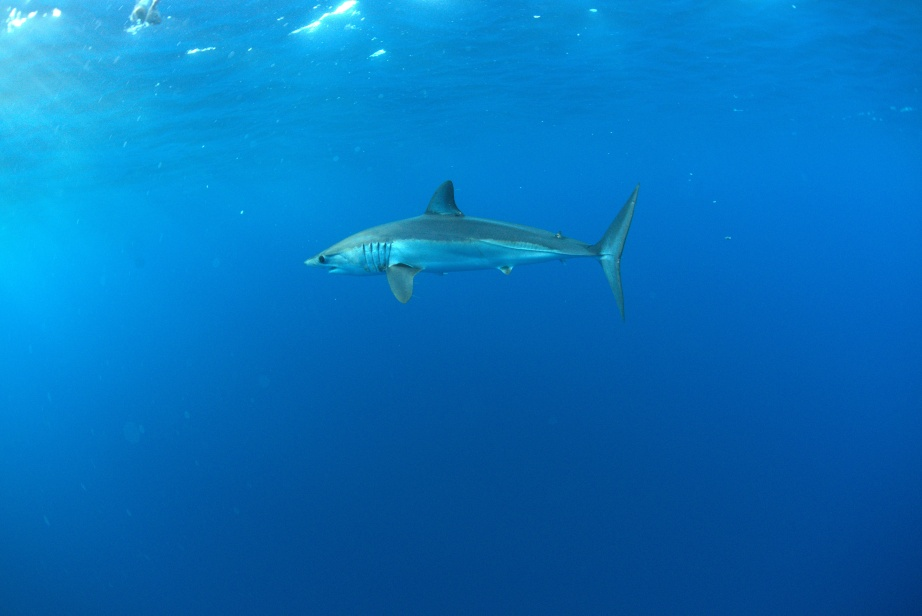Mako: (284, 170, 652, 326)
